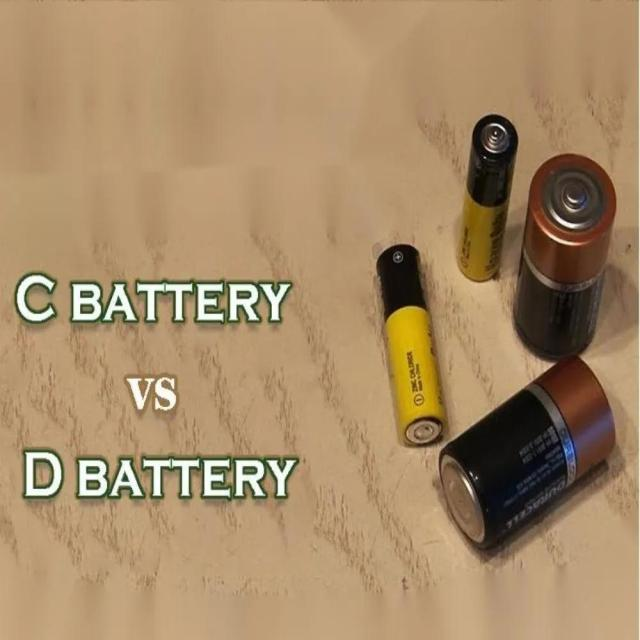AA: (373, 240, 450, 451), (454, 110, 521, 285)
